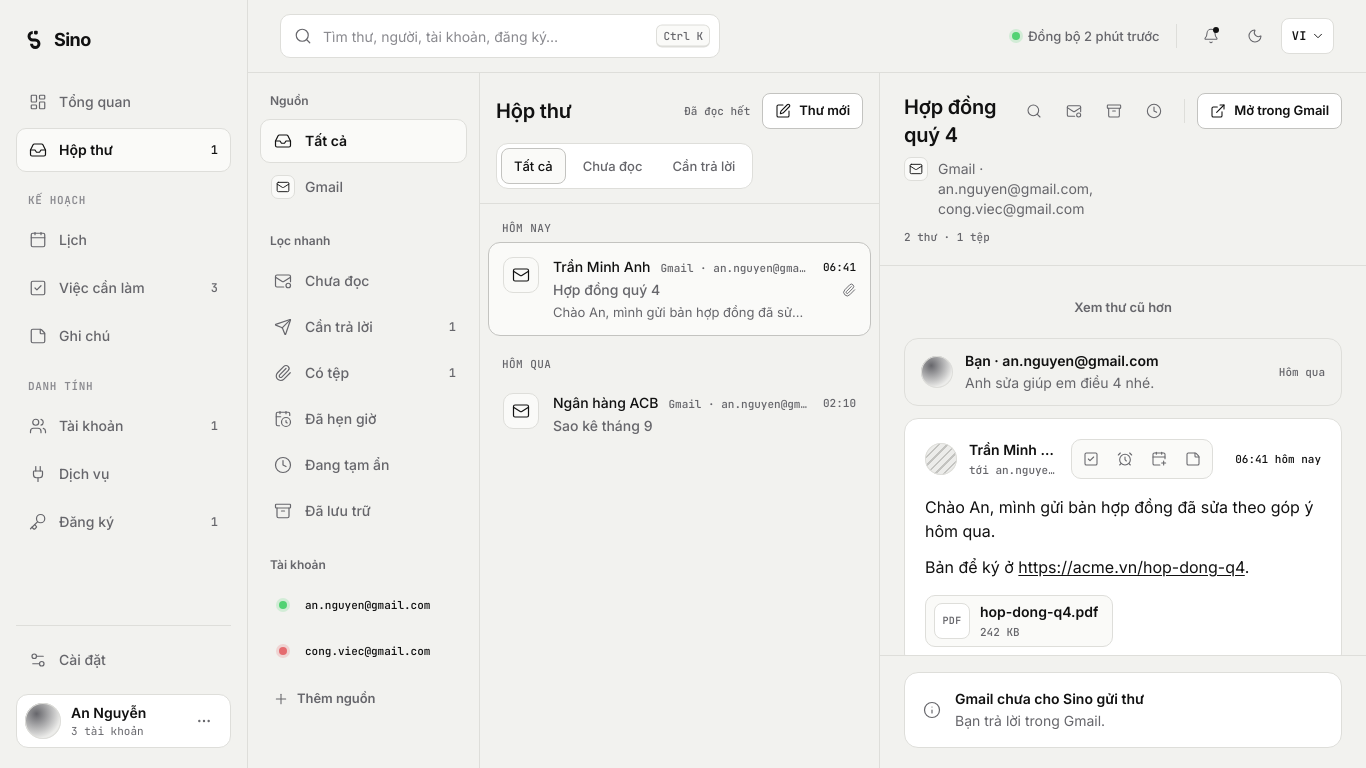
Test case: a conversation read in full on the F06 API (FE-57) › loads the older emails with "Xem thư cũ hơn", folded above, until there are no more
Click the button "Xem thư cũ hơn".
click(1123, 308)  # box [1061, 290, 1185, 326]
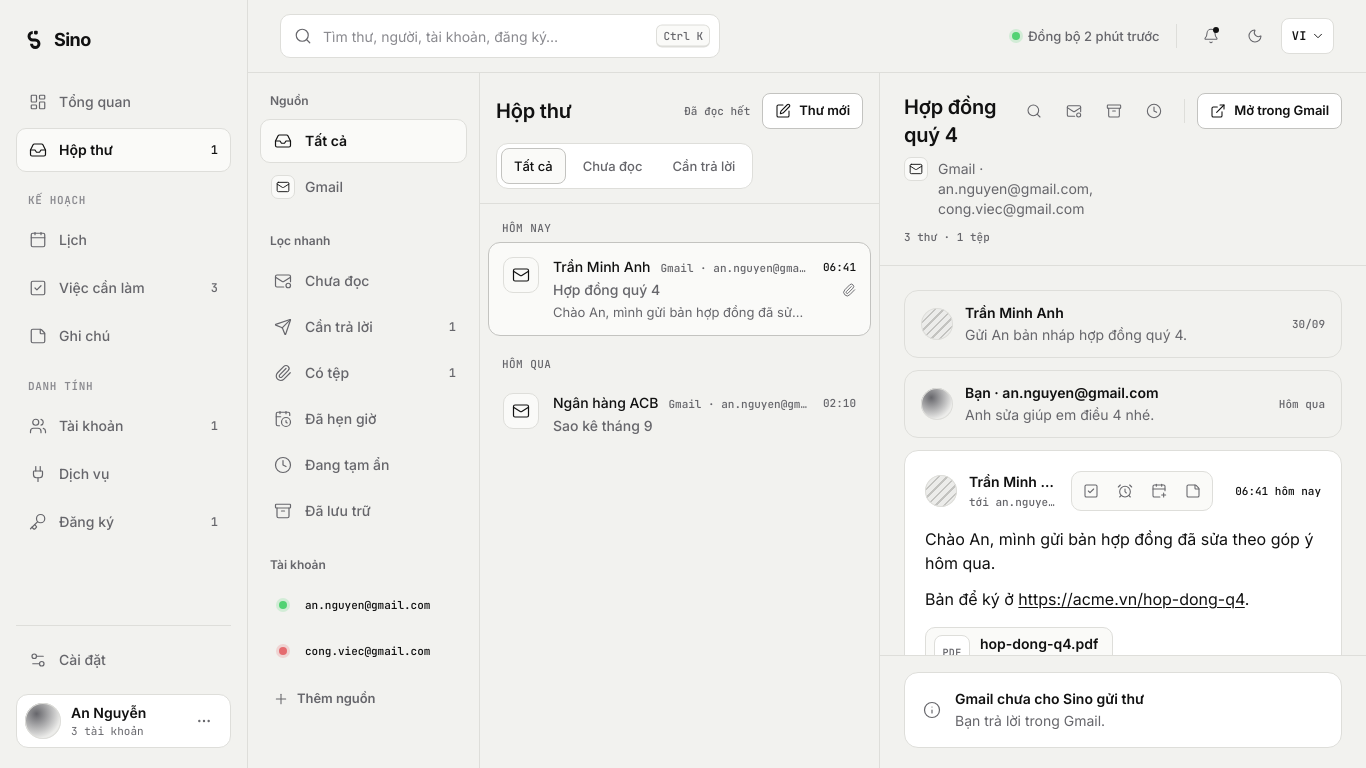
Expected: the button "Trần Minh Anh Gửi An bản nháp hợp đồng quý 4. 30/09" is shown, [904, 290, 1342, 358]
Expected: the button "Xem thư cũ hơn" is gone
